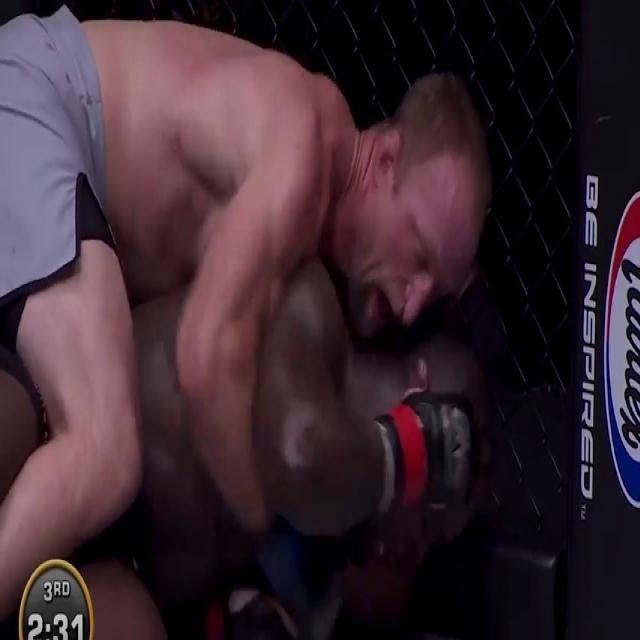fight: (0, 0, 518, 639)
